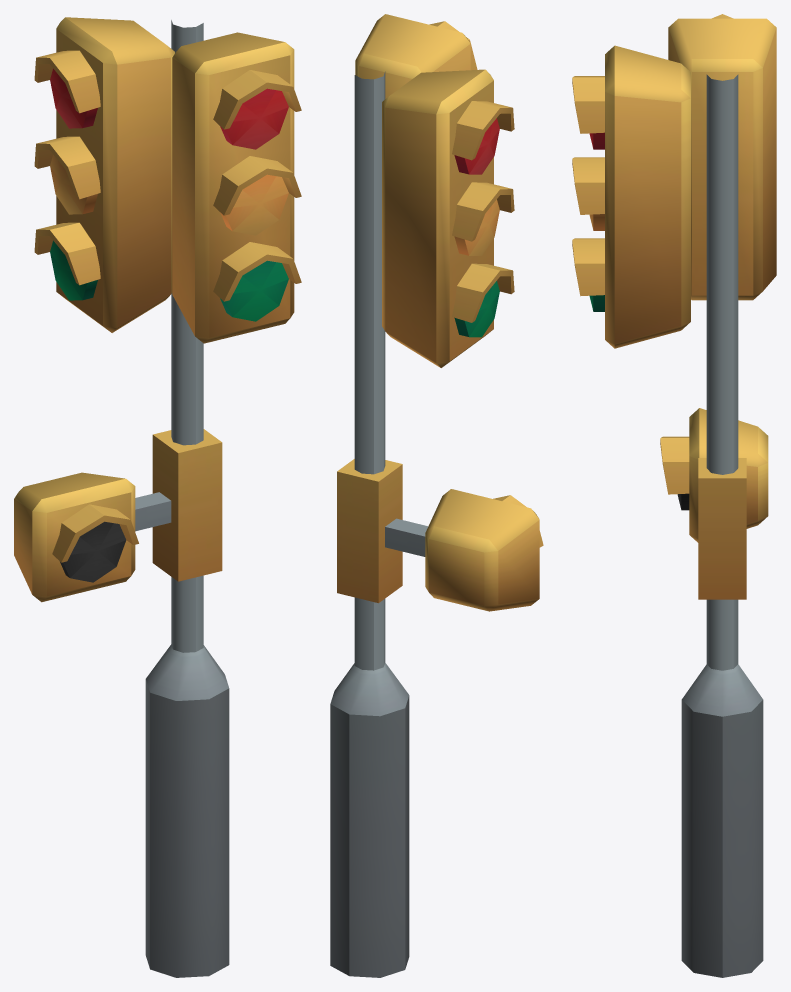
The model's file is trafikljus.glb.
The picture shows the model from 3 angles, left to right: view 1: azimuth 30°, elevation 25°; view 2: azimuth 150°, elevation 25°; view 3: azimuth 270°, elevation 25°; orthographic projection. The views are drawn at different scales.
Parts seen in each view (by area): view 1: trafficlight_A; view 2: trafficlight_A; view 3: trafficlight_A.
Boxes of the visible parts, bbox=[...] form: trafficlight_A: bbox=[14, 17, 301, 977]; trafficlight_A: bbox=[330, 14, 543, 977]; trafficlight_A: bbox=[572, 14, 776, 977].
Bounding box in the file's own units: 0.1745 × 0.7295 × 0.1506.
Materials: 1 (1 with a texture image).
